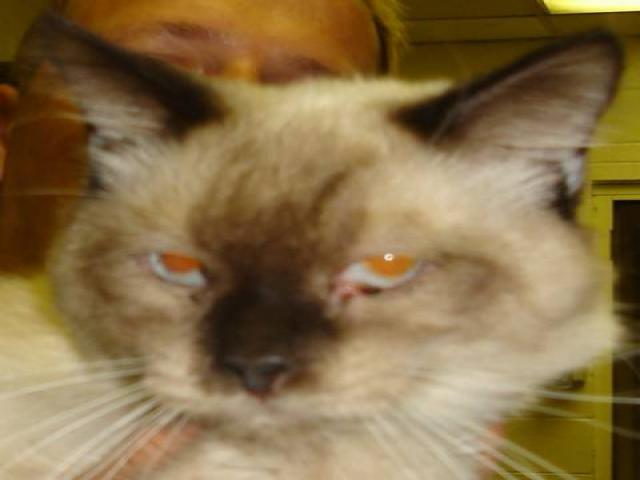cat: (19, 4, 634, 478)
